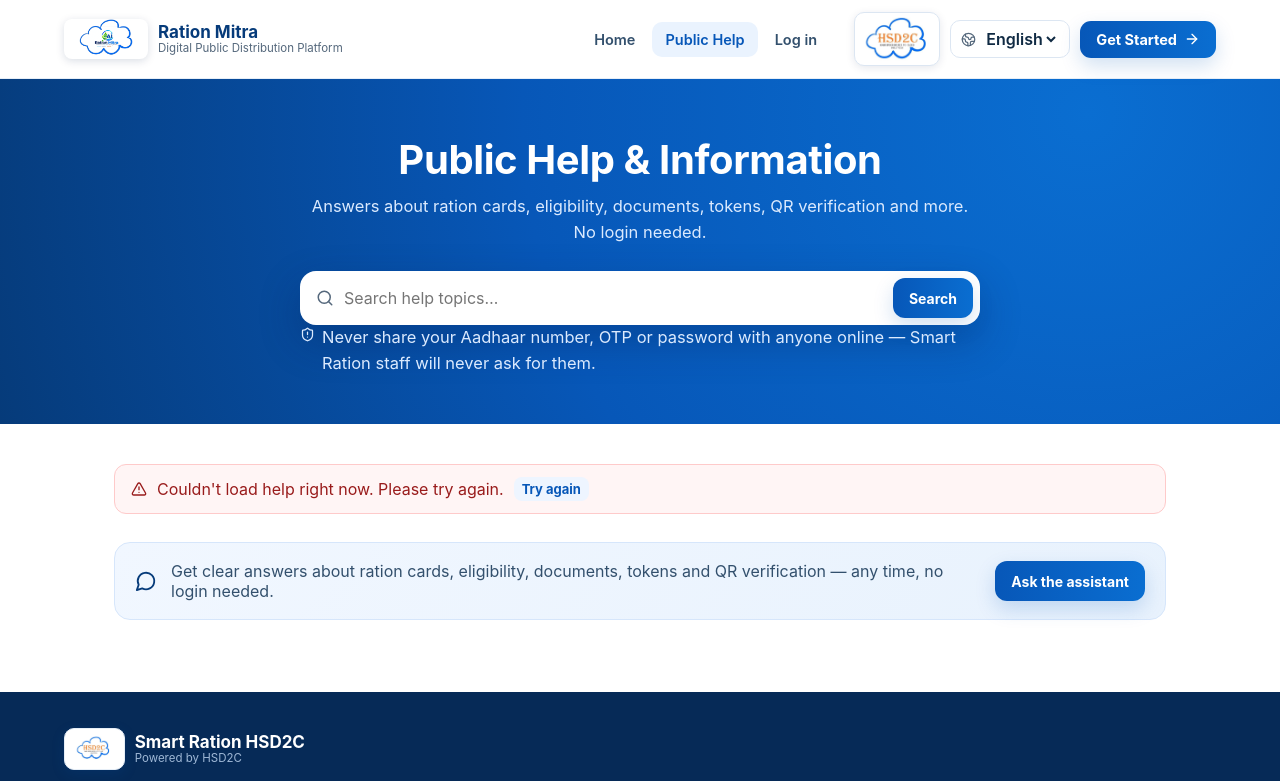
Test: Public Help page › shows an error with retry when help can't load
The image size is (1280, 781).
Expected: the message shows "Couldn't load help right now", [157, 479, 504, 499]
Click the button "Try again".
click(551, 489)  # box [514, 477, 589, 501]
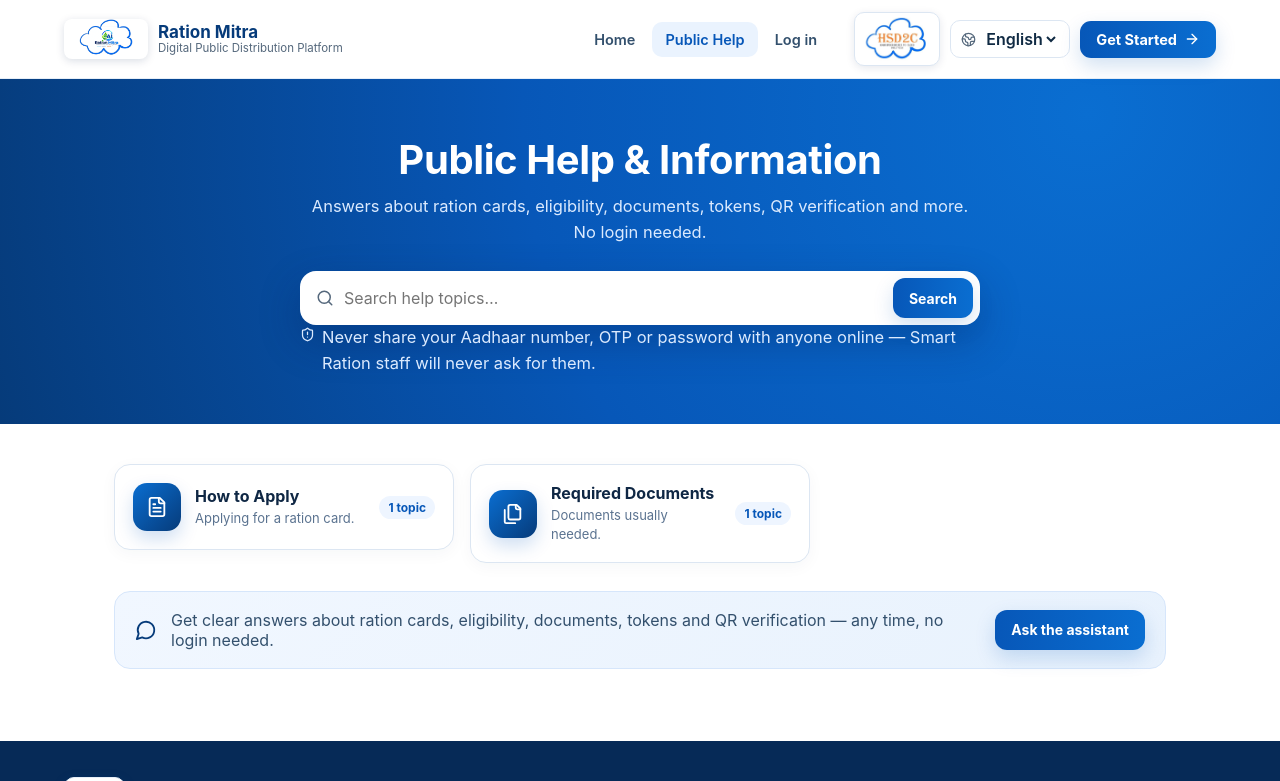
Expected: the button "How to Apply Applying for a ration card. 1 topic" is shown, [115, 465, 453, 549]
